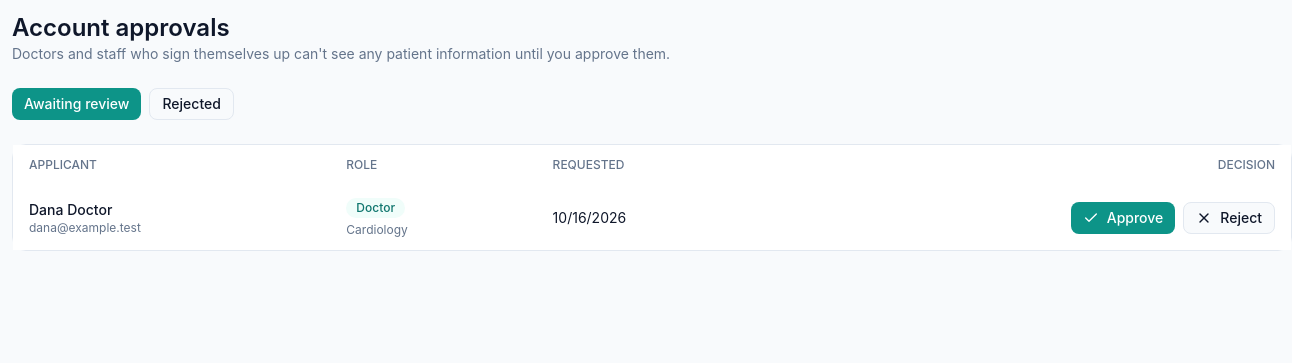
Test: AccountApprovalsPage › approves an applicant and removes them from the queue
Expected: the text "Dana Doctor" is shown, 29,200 -> 112,218
Click the button with aria-label "Approve Dana Doctor".
click(1123, 218)  # box 1071,202 -> 1175,234
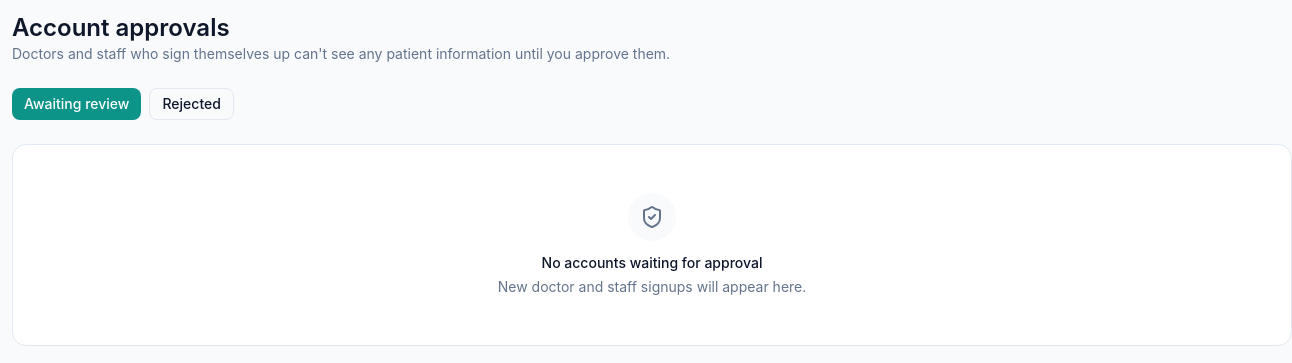
Expected: the text "Dana Doctor" is gone
Expected: the text "No accounts waiting for approval" is shown, 542,254 -> 762,271
